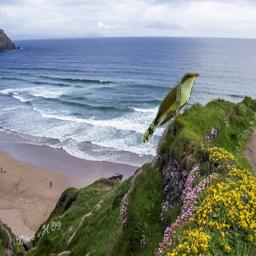Cuckoo: (143, 73, 200, 143)
